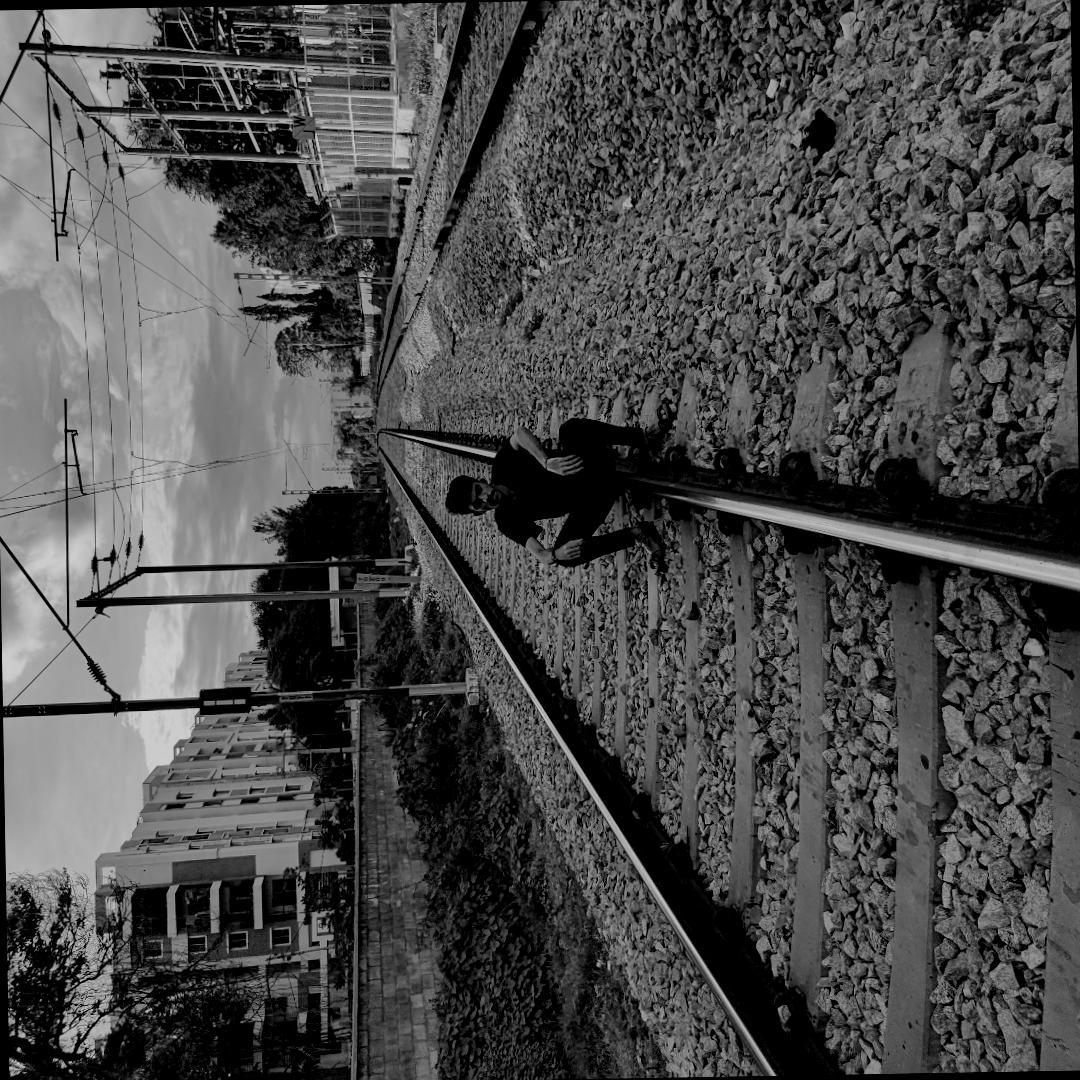sitting: (432, 402, 676, 584)
